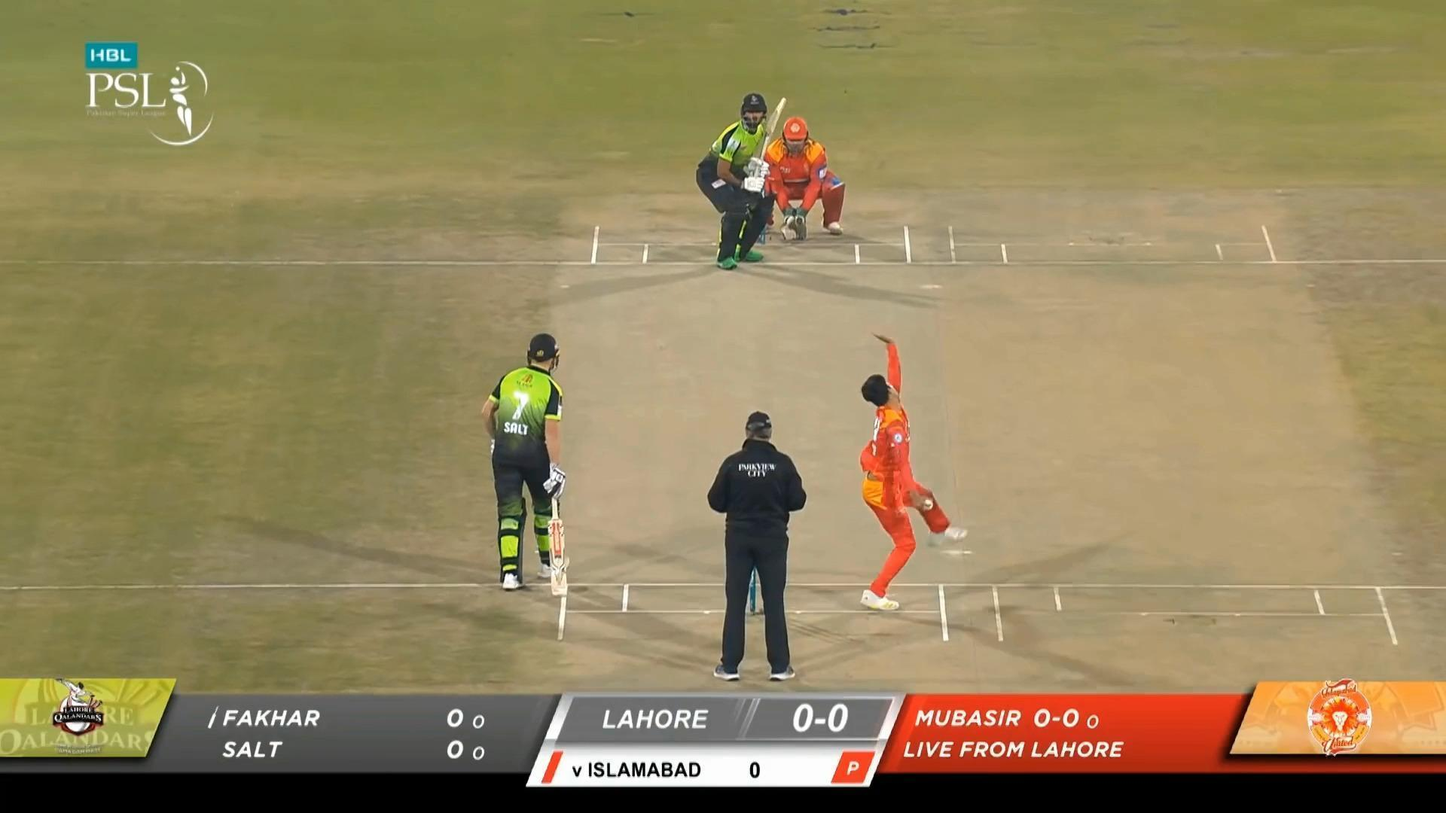BM 1: (696, 93, 787, 271)
BO: (860, 330, 968, 612)
